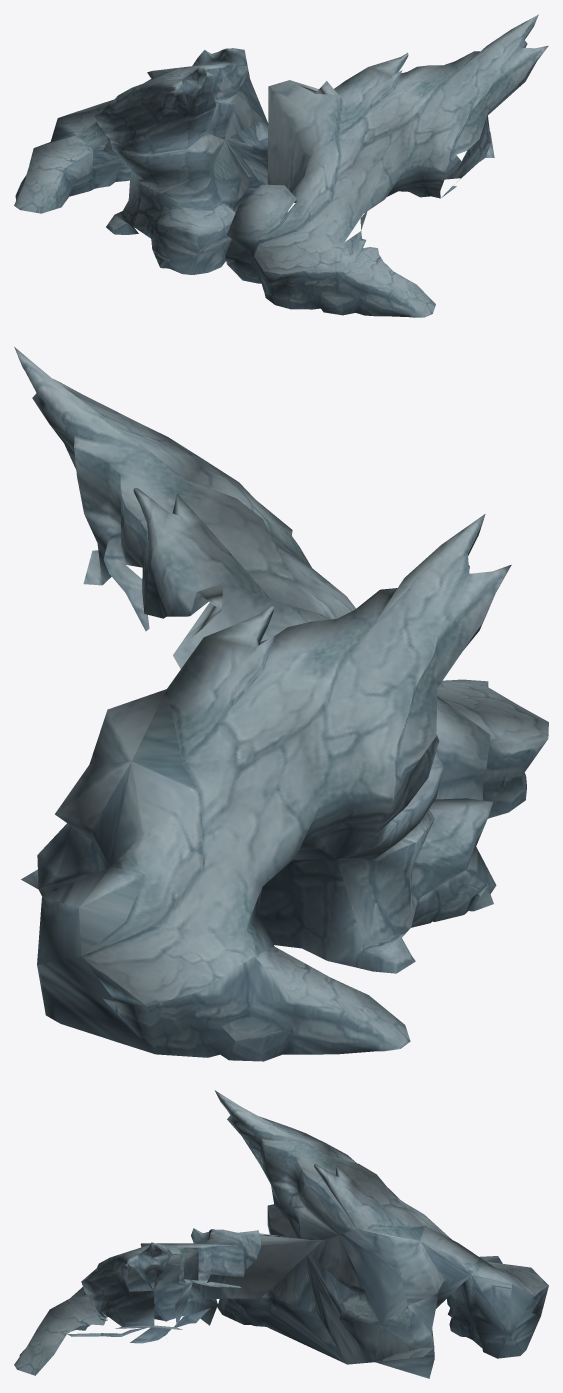
The model's file is yanshi16_1.fbx.
3 views of the same model, one above another, from view 1: azimuth 30°, elevation 25°; view 2: azimuth 150°, elevation 25°; view 3: azimuth 270°, elevation 25° (orthographic). The views are drawn at different scales.
Visible parts, largest first — view 1: yanshi16_1; view 2: yanshi16_1; view 3: yanshi16_1.
Boxes of the visible parts, bbox=[...] form: yanshi16_1: bbox=[14, 14, 548, 317]; yanshi16_1: bbox=[14, 347, 548, 1061]; yanshi16_1: bbox=[14, 1090, 548, 1378].
Size of the model in its own units: 1915 by 1022 by 2323.
